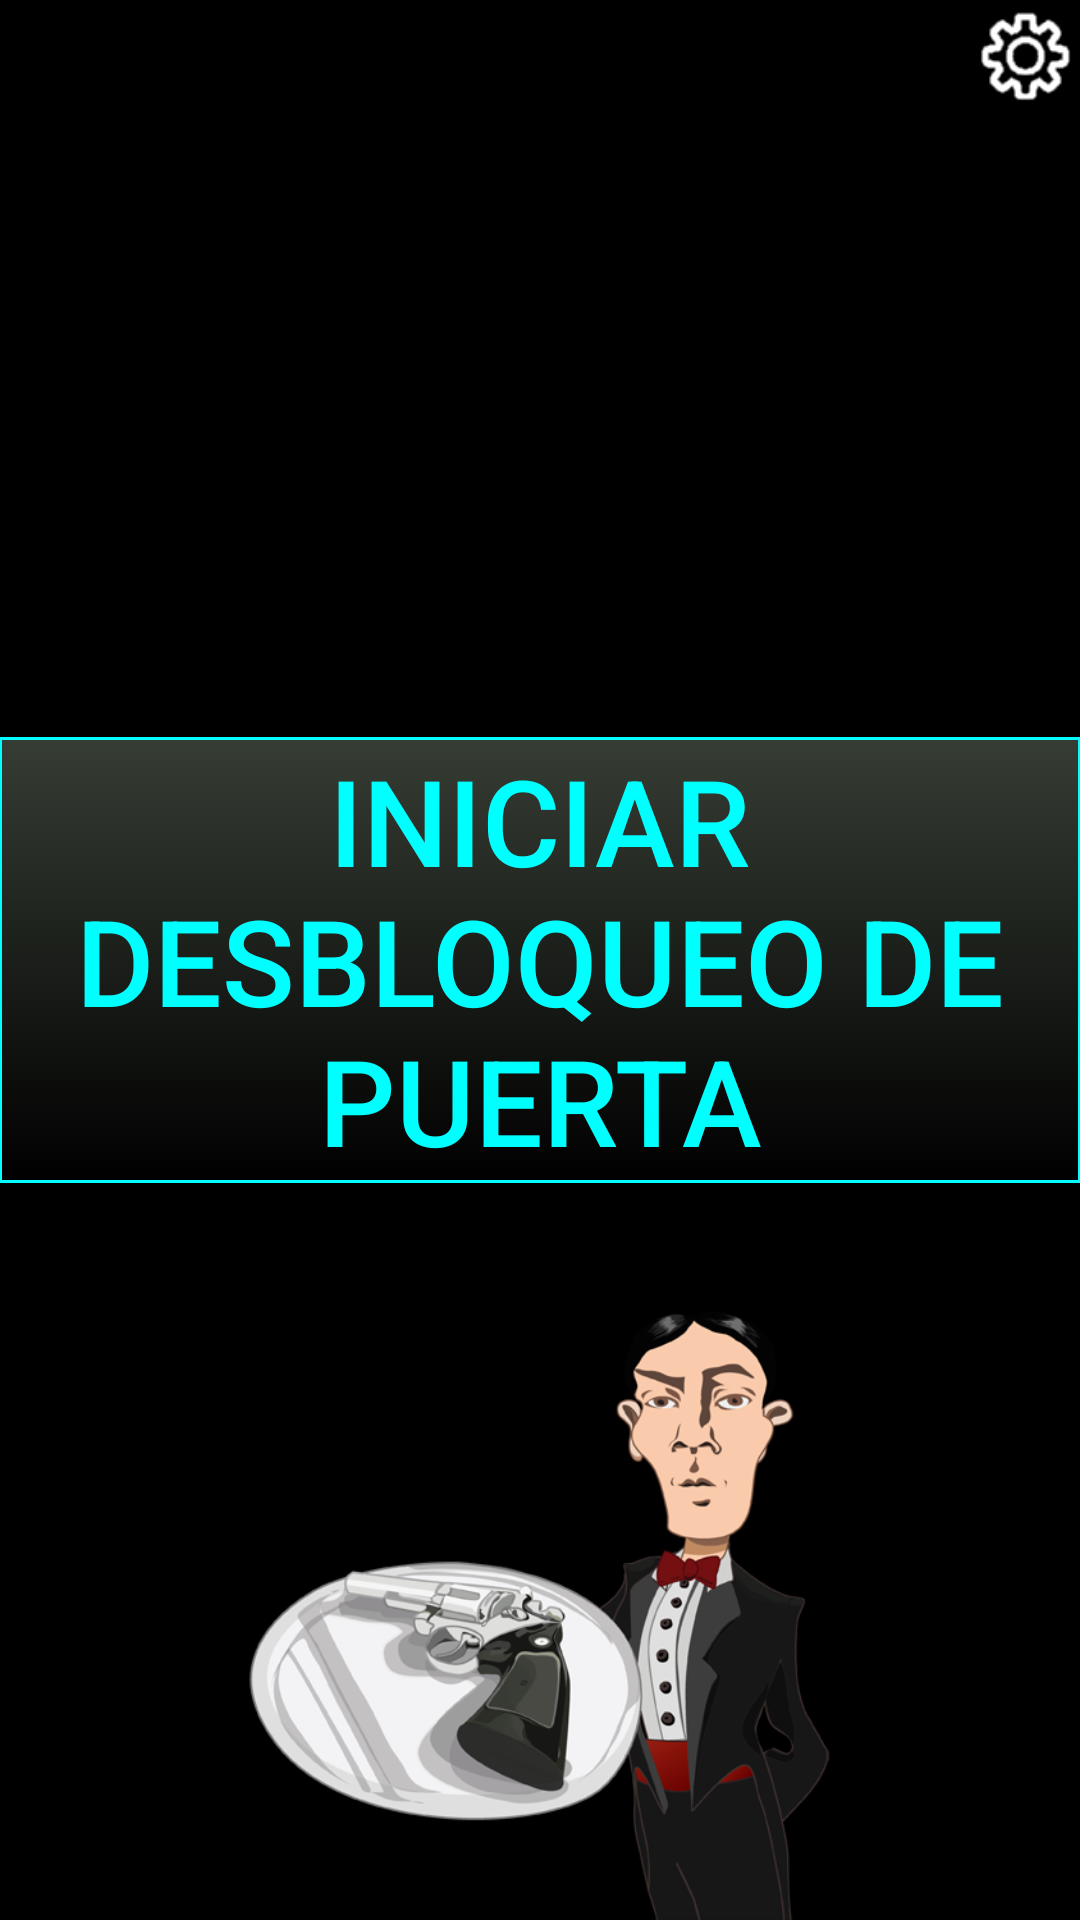

Screen size 1080w x 1920h. Icon name, then its center in pixels as (x=x, y=y):
setup: (x=1025, y=56)
